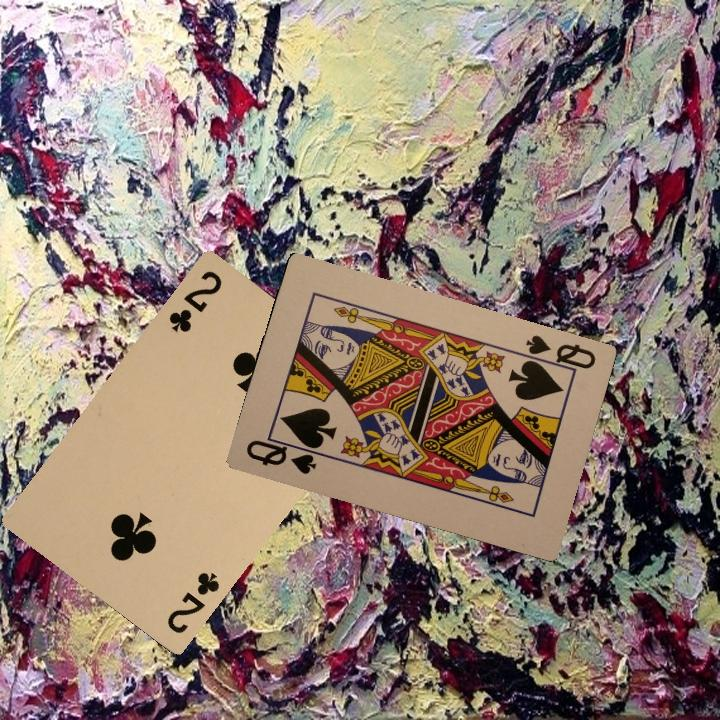2c: (162, 567, 223, 637), (164, 266, 225, 335)
Qs: (519, 330, 598, 378), (242, 433, 324, 477)
